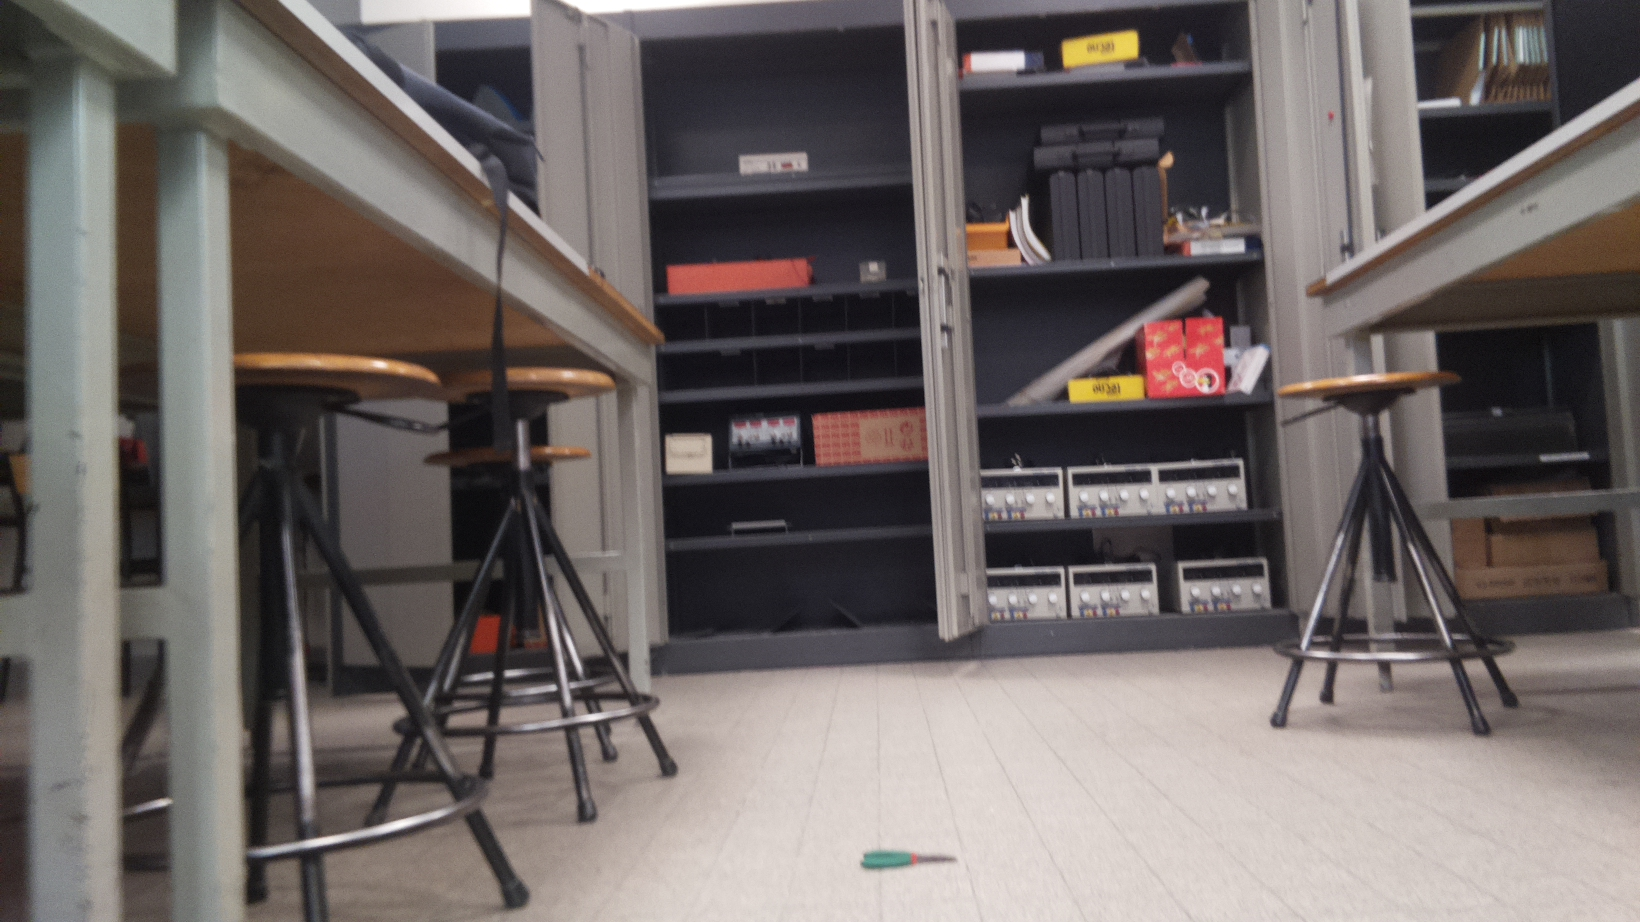small: (861, 847, 960, 876)
